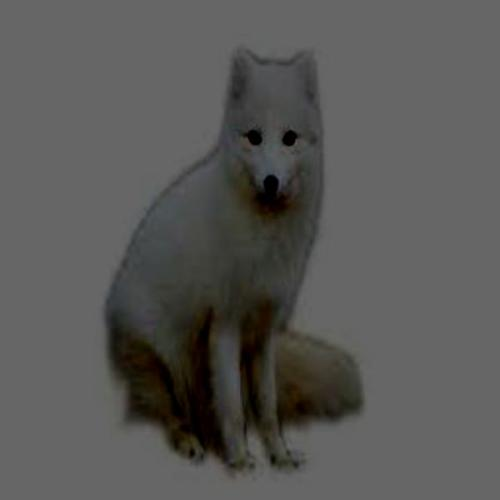arctic_fox-endangered: (102, 50, 365, 475)
